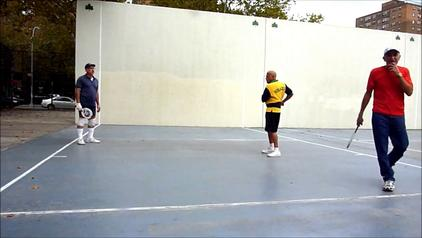gun_pointing: (360, 54, 412, 163)
stay: (259, 67, 295, 157), (73, 61, 103, 141)
walk: (259, 67, 295, 157)
